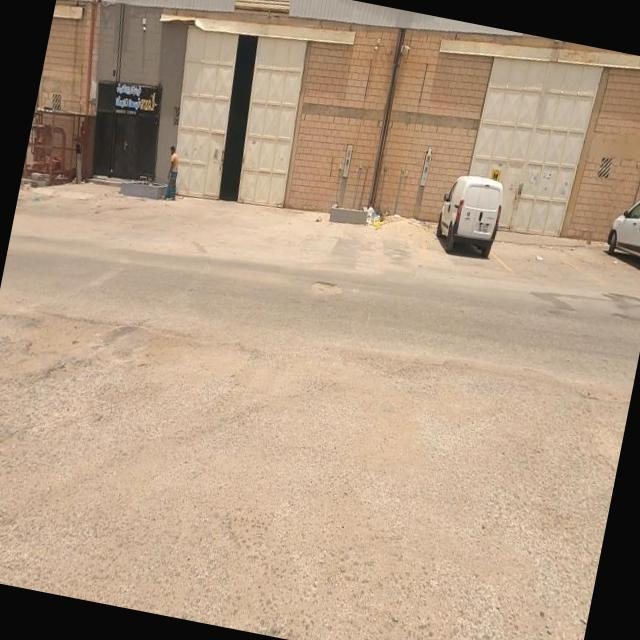debris: (340, 175, 417, 262)
